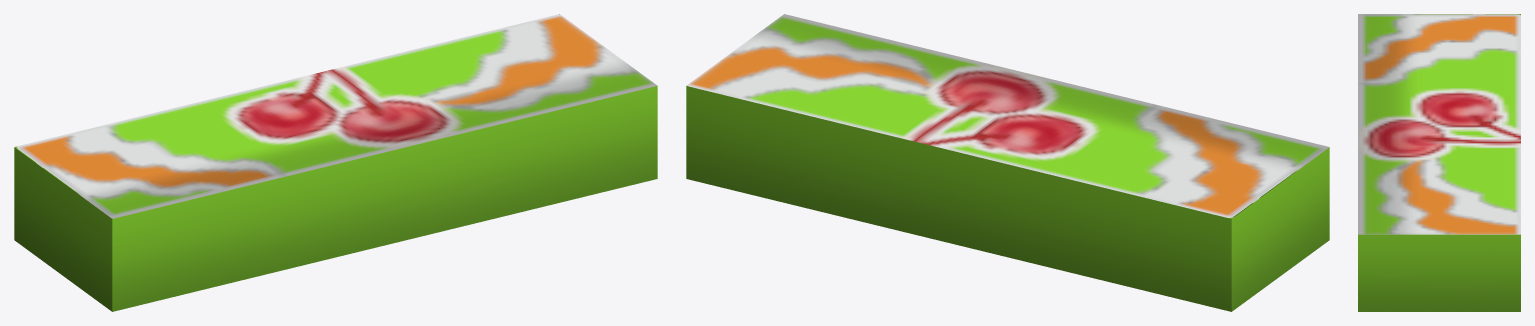
Rendered from giftgoods071c.fbx.
3 renders of one model, left to right at view 1: azimuth 30°, elevation 25°; view 2: azimuth 150°, elevation 25°; view 3: azimuth 270°, elevation 25°, orthographic. The views are drawn at different scales.
Parts seen in each view (by area): view 1: giftgoods071c; view 2: giftgoods071c; view 3: giftgoods071c.
Boxes of the visible parts, x1,y1,x2,y2 form: giftgoods071c: (14, 14, 657, 311); giftgoods071c: (686, 14, 1329, 311); giftgoods071c: (1358, 14, 1520, 311).
Bounding box in the file's own units: 0.5195 × 0.0847 × 0.1619.
